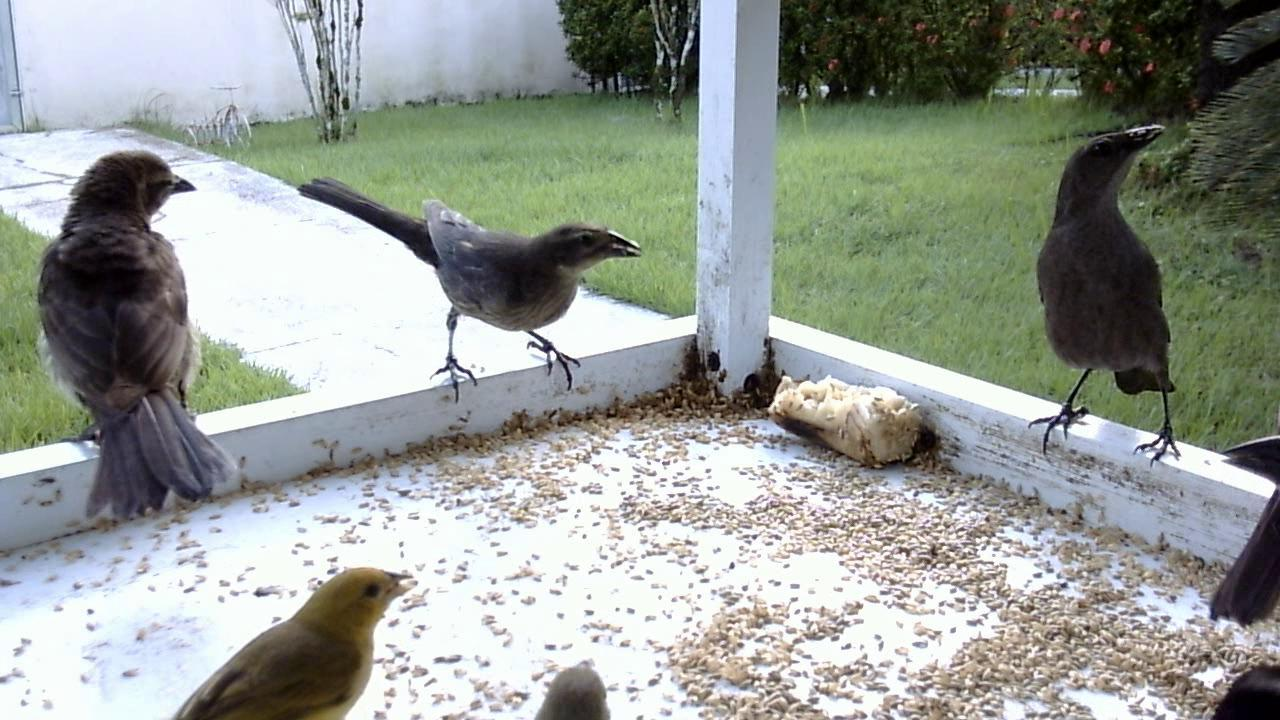canario_do_amazonas: (156, 559, 422, 718), (508, 642, 629, 720)
chupim: (290, 178, 644, 414), (23, 149, 245, 513), (1013, 122, 1198, 480)
